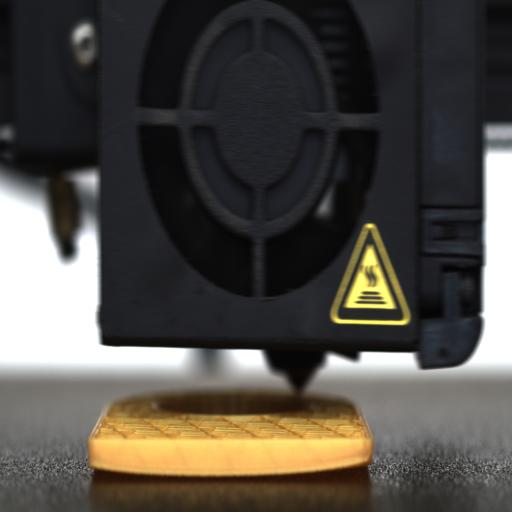warp: (298, 450, 379, 482), (85, 454, 179, 478)
